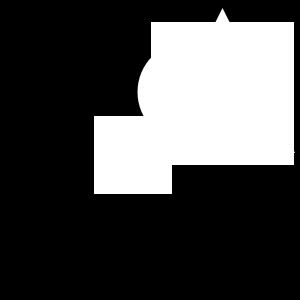circle: (151, 22, 294, 165), (94, 116, 172, 194)
rectangle: (138, 41, 238, 142)
triangle: (150, 8, 295, 153), (166, 33, 281, 148)
